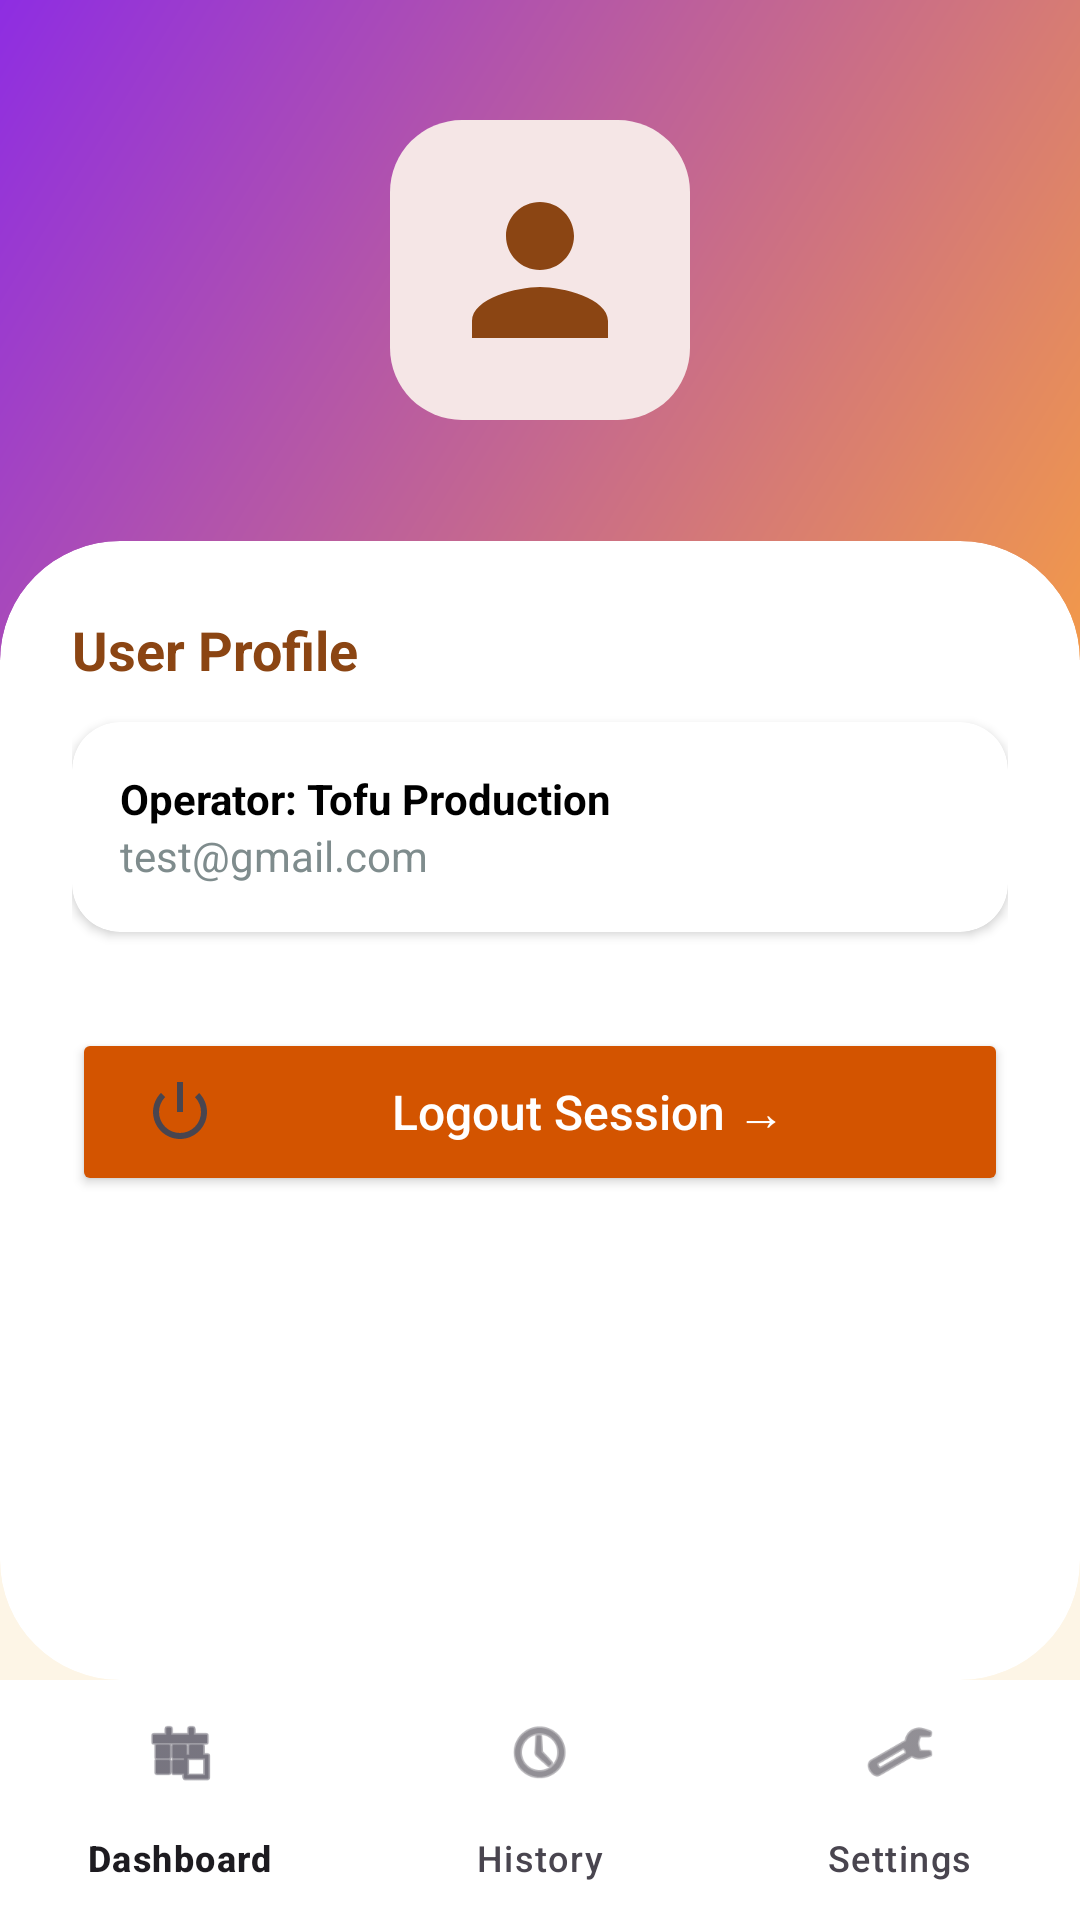

Where to tap for icons on this 1080*1920 app screen, as [x,y]:
person: [540,270]
